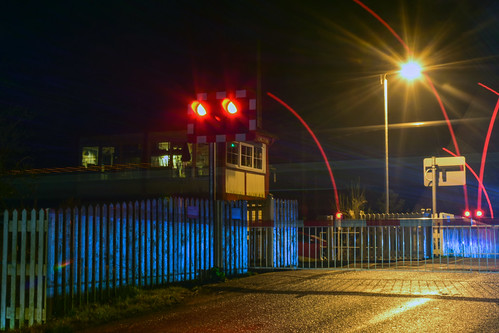building: (65, 124, 281, 200)
gate: (251, 208, 499, 272)
light pole: (379, 55, 421, 217)
street: (42, 261, 496, 333)
